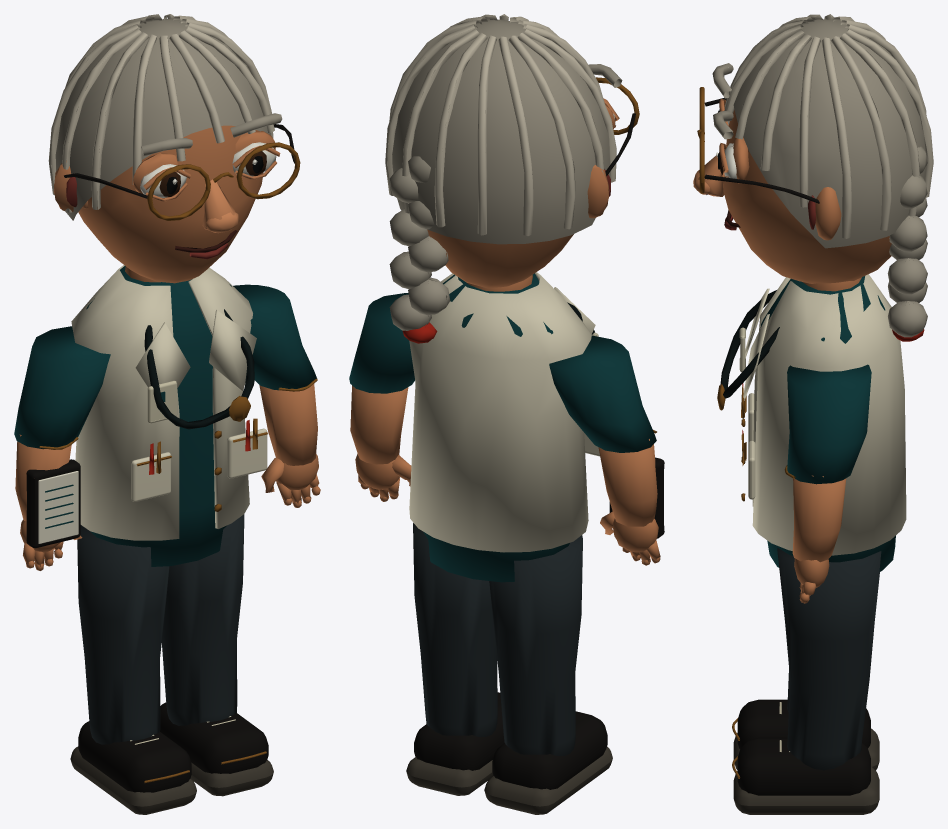
File: doctor-05.glb
The picture shows the model from 3 angles, left to right: view 1: azimuth 30°, elevation 25°; view 2: azimuth 150°, elevation 25°; view 3: azimuth 270°, elevation 25°; orthographic projection.
Parts seen in each view (by area): view 1: Head, Body, LegL, LegR, ArmL, ArmR; view 2: Body, Head, LegL, LegR, ArmL, ArmR; view 3: Head, Body, LegR, ArmR, LegL.
Part boxes in pixels (x1,y1,x2,y2): Head: (48, 14, 300, 283); Body: (71, 265, 267, 566); LegL: (70, 525, 196, 814); LegR: (160, 514, 273, 796); ArmL: (14, 326, 110, 570); ArmR: (233, 284, 320, 507); Body: (389, 236, 599, 582); Head: (385, 14, 639, 288); LegL: (484, 535, 612, 814); LegR: (406, 523, 504, 795); ArmL: (549, 335, 664, 565); ArmR: (349, 293, 414, 501); Head: (693, 14, 933, 283); Body: (717, 239, 927, 571); LegR: (732, 548, 881, 814); ArmR: (784, 364, 871, 603); LegL: (732, 669, 879, 770).
Size of the model in its own units: 0.5395 by 1.3 by 0.3728.
